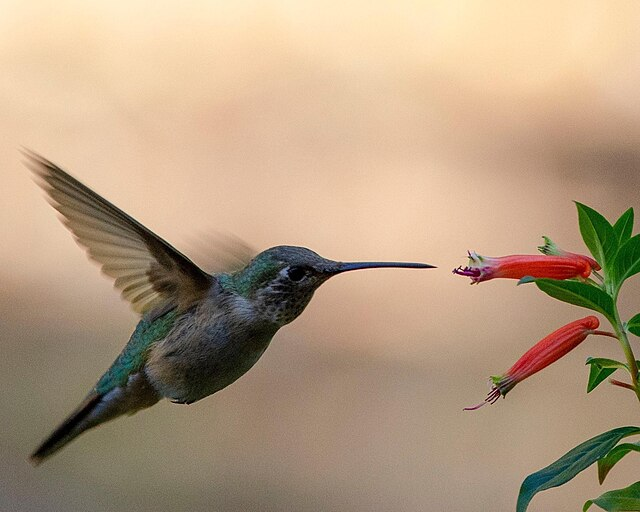selasphorus platycercus: (27, 247, 437, 468)
